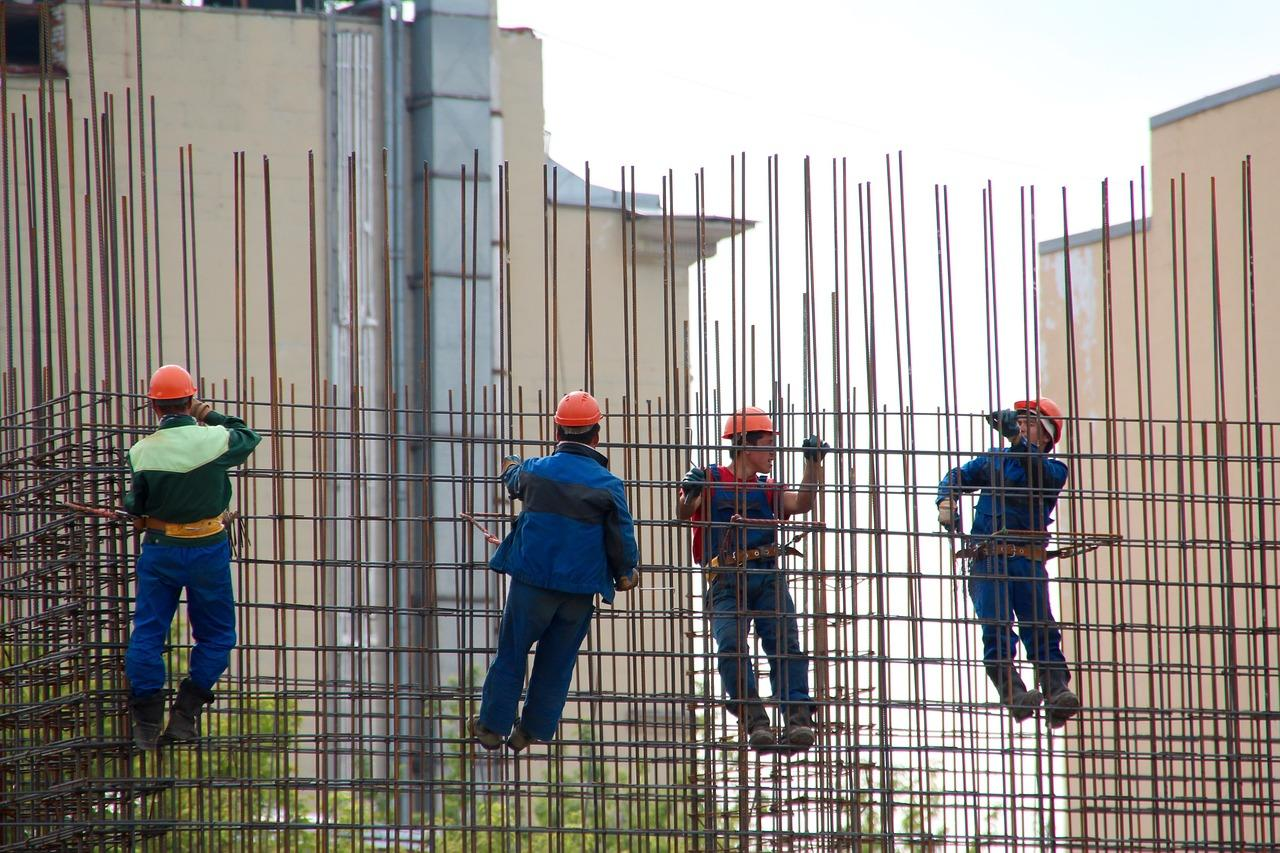capacete: (1009, 393, 1073, 445), (143, 369, 208, 407), (718, 407, 783, 439), (554, 389, 604, 430)
pessoa: (481, 389, 643, 747), (121, 365, 263, 758), (697, 401, 844, 763), (937, 410, 1107, 723)
